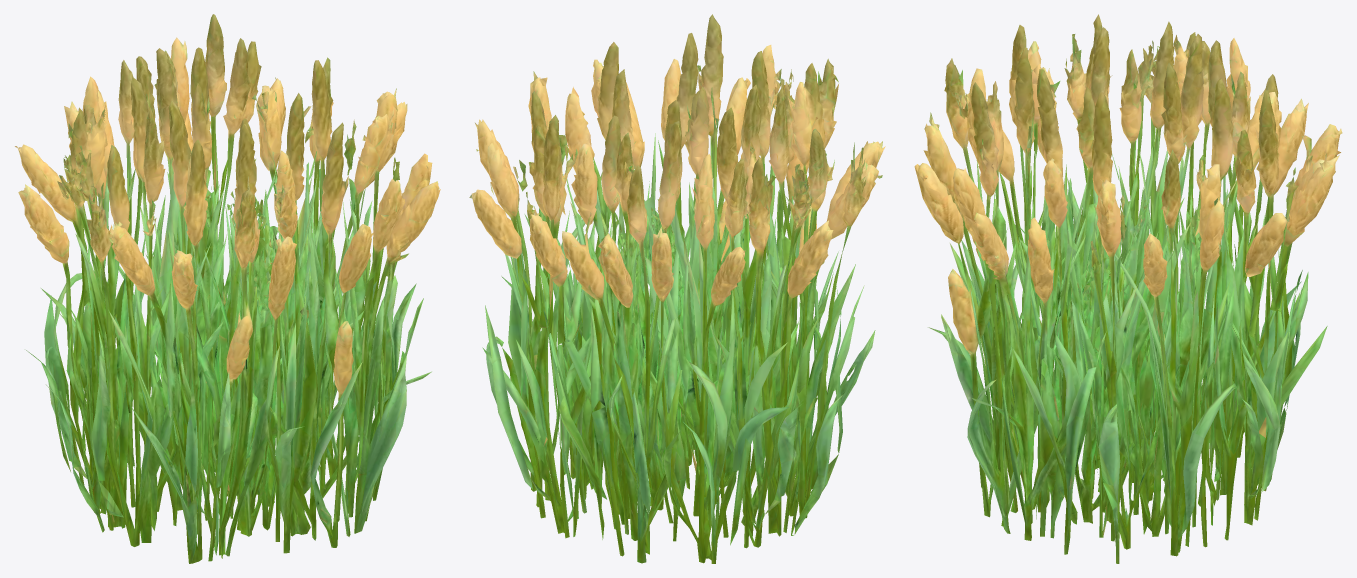
The model's file is wheat-stage-3.glb.
The picture shows the model from 3 angles, left to right: view 1: azimuth 30°, elevation 25°; view 2: azimuth 150°, elevation 25°; view 3: azimuth 270°, elevation 25°; orthographic projection. The views are drawn at different scales.
Parts seen in each view (by area): view 1: Mesh_0; view 2: Mesh_0; view 3: Mesh_0.
Part boxes in pixels (x1,y1,x2,y2): Mesh_0: (15,14,440,563); Mesh_0: (469,14,885,563); Mesh_0: (914,14,1342,563).
Bounding box in the file's own units: 1.32 × 1.5 × 1.29.
1 material, 1 textured.
